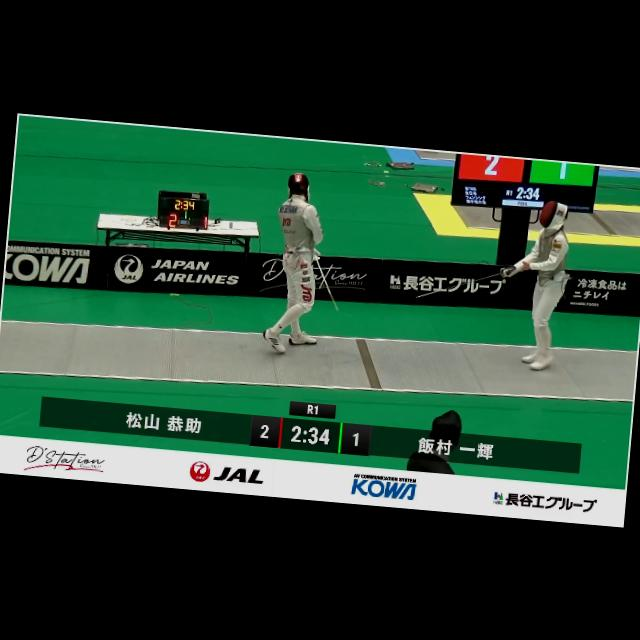blade: (412, 256, 516, 311), (304, 248, 352, 316)
